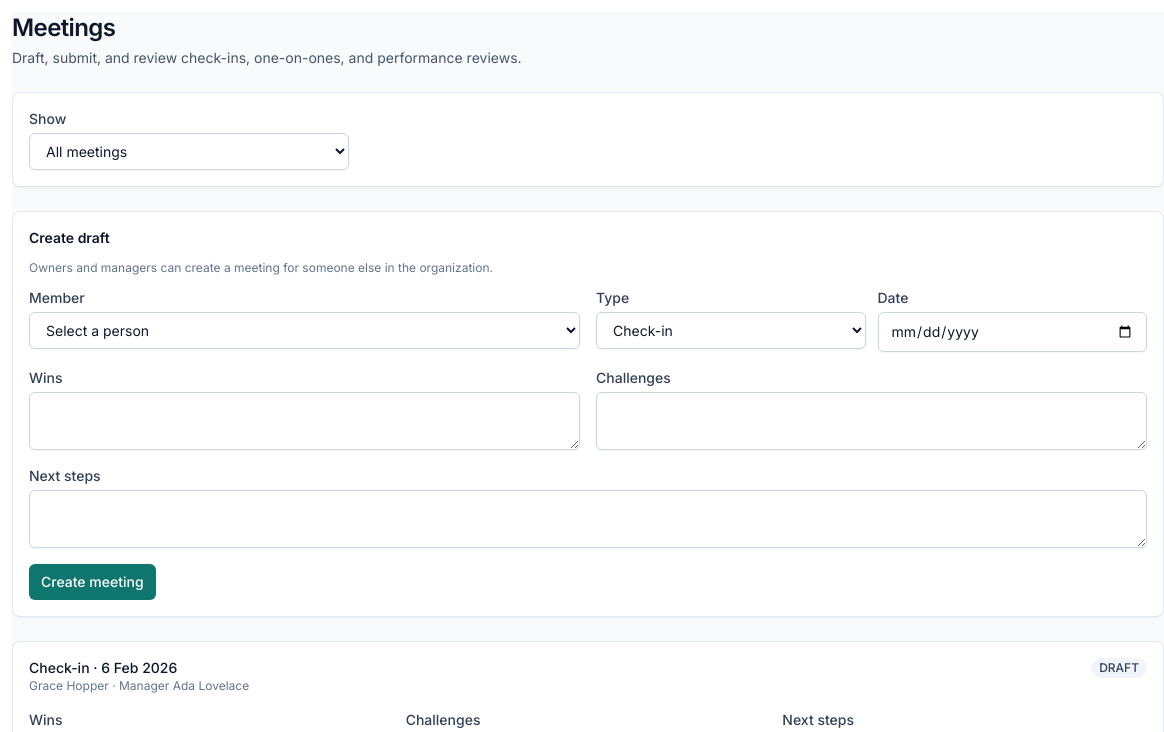
MeetingsPage › shows the meeting type and requires a member and date to create
Check: the text "Check-in · 6 Feb 2026" is shown, box [29, 659, 177, 676]
Click the button "Create meeting".
click(92, 582)  # box [29, 564, 156, 600]
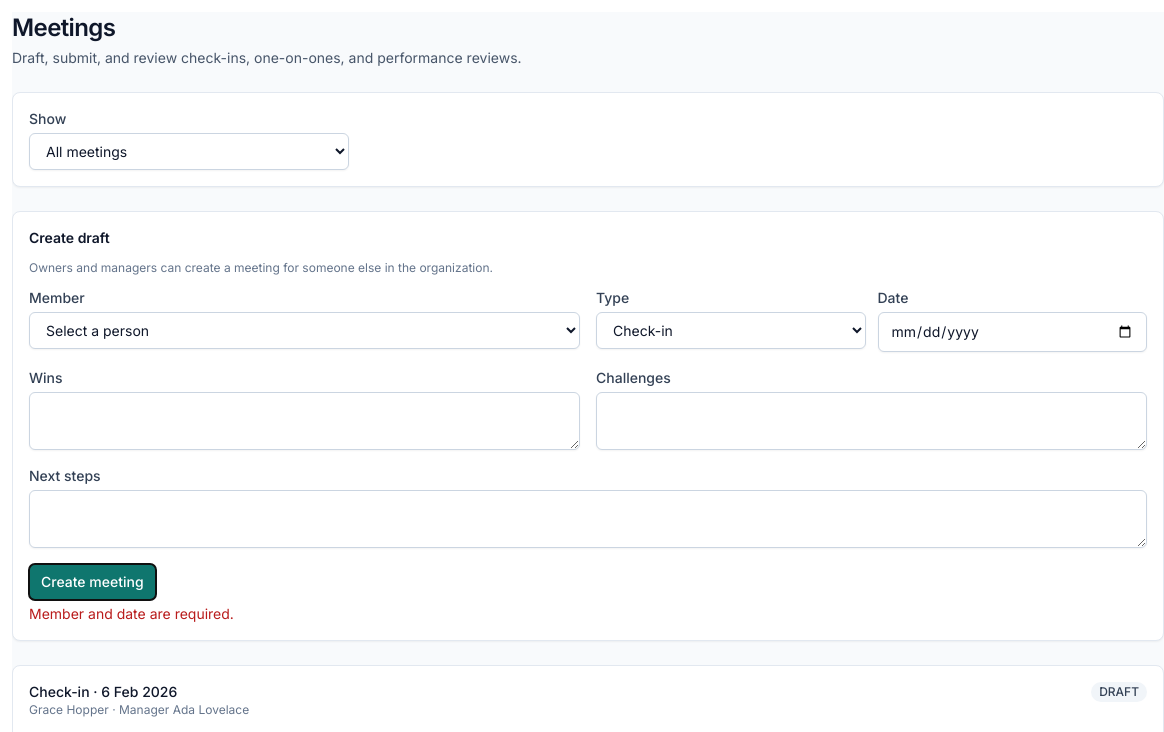
Check: the text "Member and date are required." is shown, box [29, 605, 234, 622]
